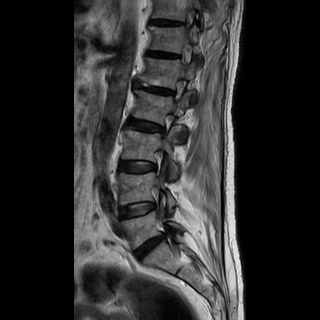LFS0: (166, 74, 191, 104), (157, 107, 178, 142), (149, 147, 170, 178)
